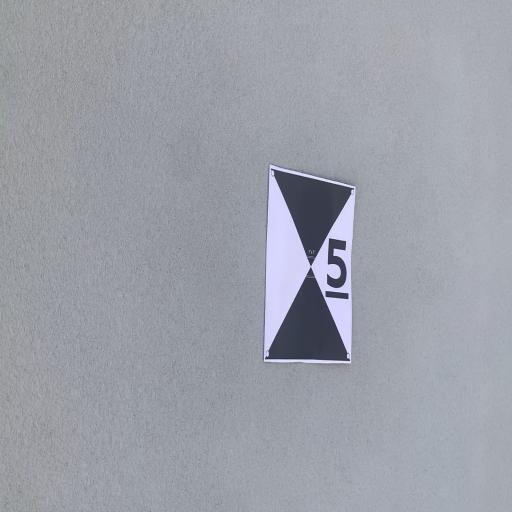target5: (264, 163, 356, 365)
